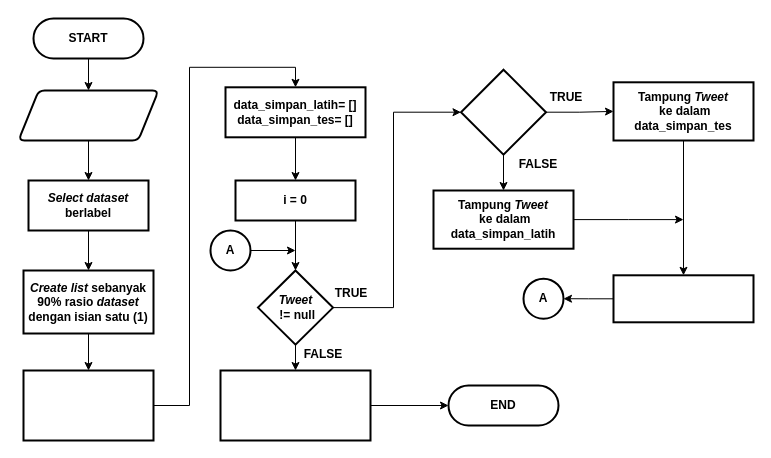
This 771x458 diagram has some shape labels left out. The shapes that lost their labels are listed below. From the top down, each one's centre as x and y in pixels, then its label:
At pixel 88 115: "Input pilih rasio".
At pixel 503 111: "list[i] == 0".
At pixel 683 298: "Tweet selanjutnya i += 1".
At pixel 88 405: "Insert list sebanyak 10% rasio dataset dengan isian nol (0)".
At pixel 295 405: "Insert Database (data_simpan_latih & data_simpan_tes)".
